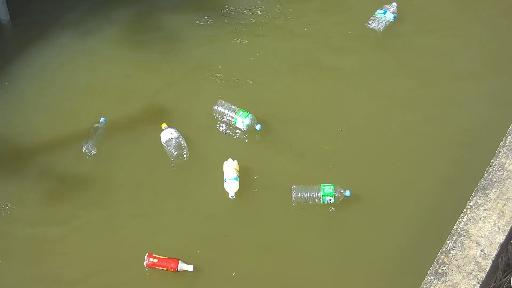plastic: (156, 120, 199, 167), (207, 101, 257, 136), (223, 158, 253, 207), (139, 253, 205, 275), (83, 110, 113, 155), (288, 183, 354, 202), (362, 2, 406, 28)
